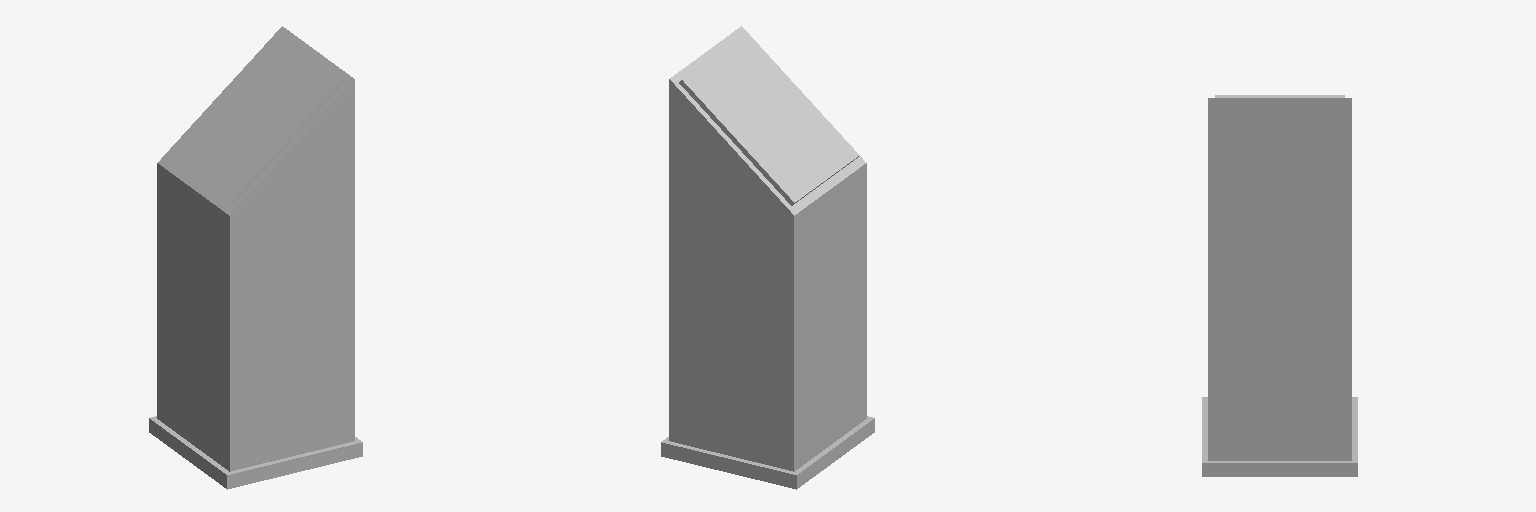
The model's file is stand.obj.
The picture shows the model from 3 angles: view 1: azimuth 30°, elevation 25°; view 2: azimuth 150°, elevation 25°; view 3: azimuth 270°, elevation 25°; orthographic projection.
Parts seen in each view (by area): view 1: Plane_Plane.001; view 2: Plane_Plane.001; view 3: Plane_Plane.001.
Boxes of the visible parts, x1=… form: Plane_Plane.001: x1=149, y1=26, x2=362, y2=489; Plane_Plane.001: x1=661, y1=26, x2=874, y2=489; Plane_Plane.001: x1=1202, y1=95, x2=1357, y2=476.
Size of the model in its own units: 0.5 by 1.32 by 0.5.